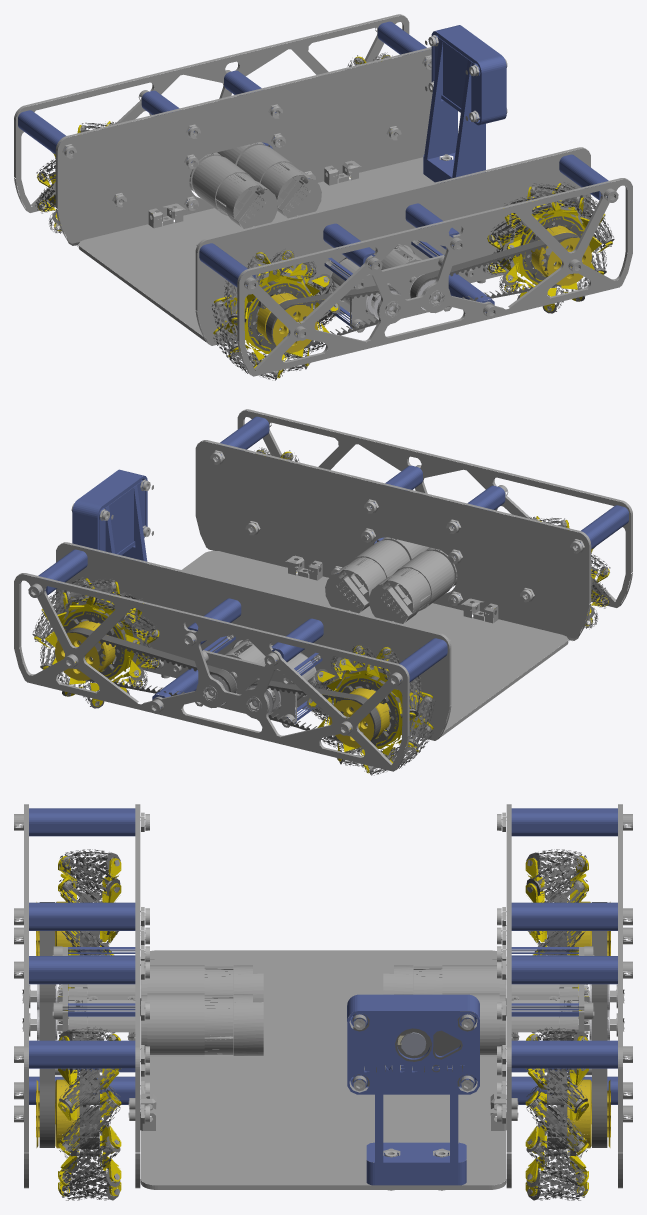
The model's file is drivebase.glb.
3 renders of one model, top to bottom at view 1: azimuth 30°, elevation 25°; view 2: azimuth 150°, elevation 25°; view 3: azimuth 270°, elevation 25°, orthographic. The views are drawn at different scales.
Visible parts, largest first — view 1: empty_2; view 2: empty_2; view 3: empty_2.
Part boxes in pixels (x1,y1,x2,y2): empty_2: (14,14,632,380); empty_2: (14,409,632,775); empty_2: (14,804,632,1200).
Size of the model in its own units: 359 by 143 by 367.
